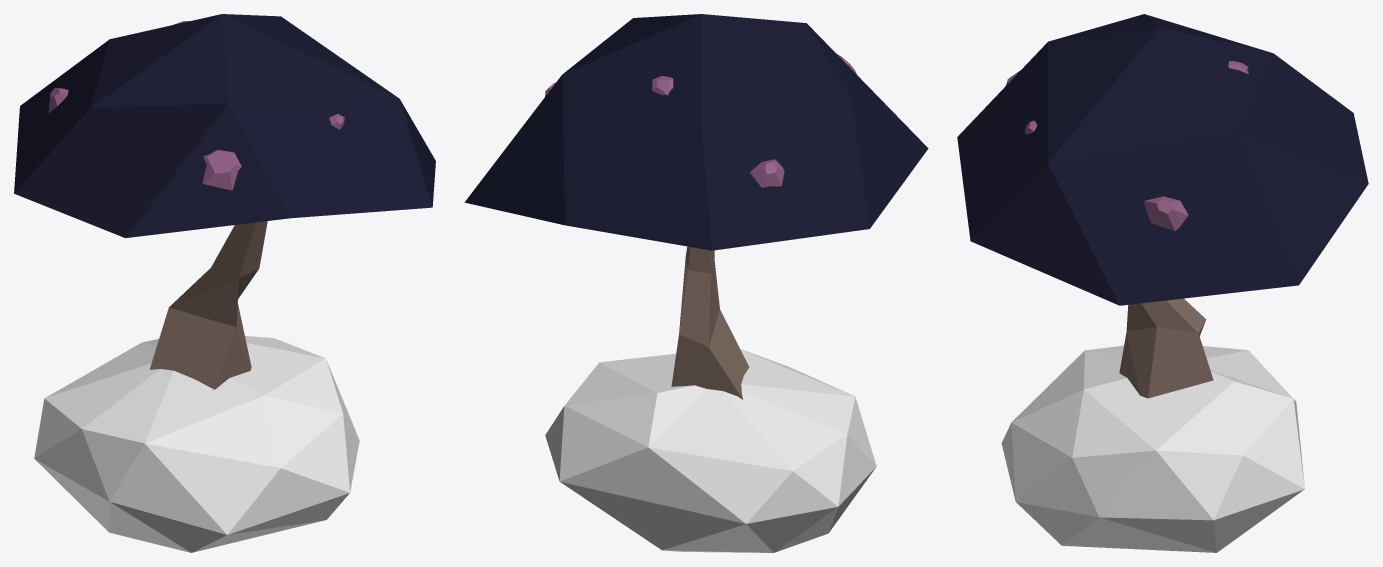
File: low_poly_mushroom_v3.fbx
The picture shows the model from 3 angles, left to right: view 1: azimuth 30°, elevation 25°; view 2: azimuth 150°, elevation 25°; view 3: azimuth 270°, elevation 25°; orthographic projection.
Visible parts, largest first — view 1: Mushroom head top.002, Ground.002, Mushroom stem.002, Dot 5.002; view 2: Mushroom head top.002, Ground.002, Mushroom stem.002, Dot 4.002; view 3: Mushroom head top.002, Ground.002, Mushroom stem.002, Dot 3.002.
Boxes of the visible parts, x1=… form: Mushroom head top.002: x1=14, y1=14, x2=435, y2=237; Ground.002: x1=34, y1=336, x2=359, y2=552; Mushroom stem.002: x1=149, y1=221, x2=267, y2=389; Dot 5.002: x1=202, y1=150, x2=241, y2=190; Mushroom head top.002: x1=464, y1=14, x2=928, y2=250; Ground.002: x1=545, y1=349, x2=876, y2=552; Mushroom stem.002: x1=671, y1=246, x2=749, y2=399; Dot 4.002: x1=750, y1=159, x2=784, y2=187; Mushroom head top.002: x1=957, y1=14, x2=1368, y2=305; Ground.002: x1=1001, y1=345, x2=1304, y2=552; Mushroom stem.002: x1=1119, y1=298, x2=1213, y2=398; Dot 3.002: x1=1144, y1=196, x2=1188, y2=231.
Bounding box in the file's own units: 614 × 789 × 568.
